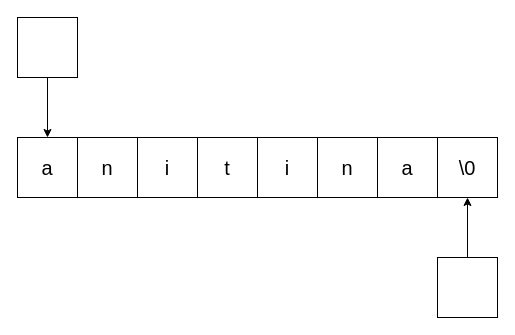
Some shapes in this 515 by 335 pixel diagram are drawn without their labels. The shapes that lost their labels are listed below. From the top down, each one's box as (x1, y1, x2, y2) in pixels, then its label:
(16, 16, 78, 78): pos
(436, 256, 498, 318): ultPos
